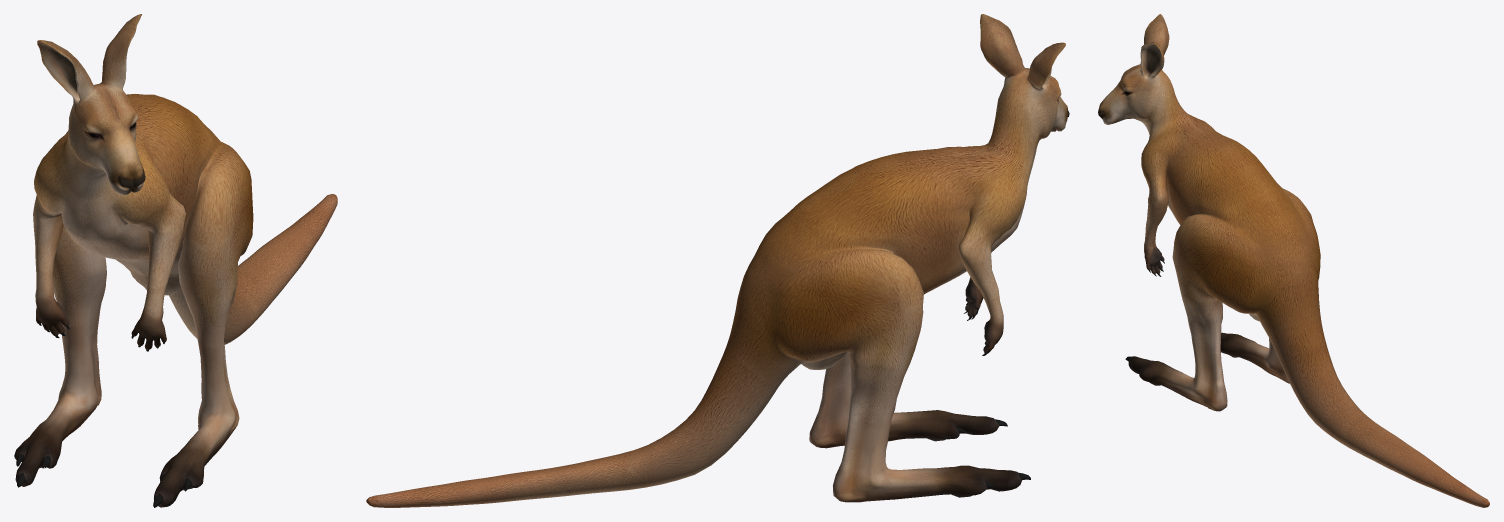
File: kangaroo.glb
The picture shows the model from 3 angles, left to right: view 1: azimuth 30°, elevation 25°; view 2: azimuth 150°, elevation 25°; view 3: azimuth 270°, elevation 25°; orthographic projection. The views are drawn at different scales.
Visible parts, largest first — view 1: node_id31_0; view 2: node_id31_0; view 3: node_id31_0.
Part boxes in pixels (bbox=[...]): node_id31_0: bbox=[14, 14, 337, 507]; node_id31_0: bbox=[366, 14, 1069, 507]; node_id31_0: bbox=[1098, 14, 1489, 507].
Size of the model in its own units: 0.598 by 0.512 by 0.5571.
1 material, 1 textured.
